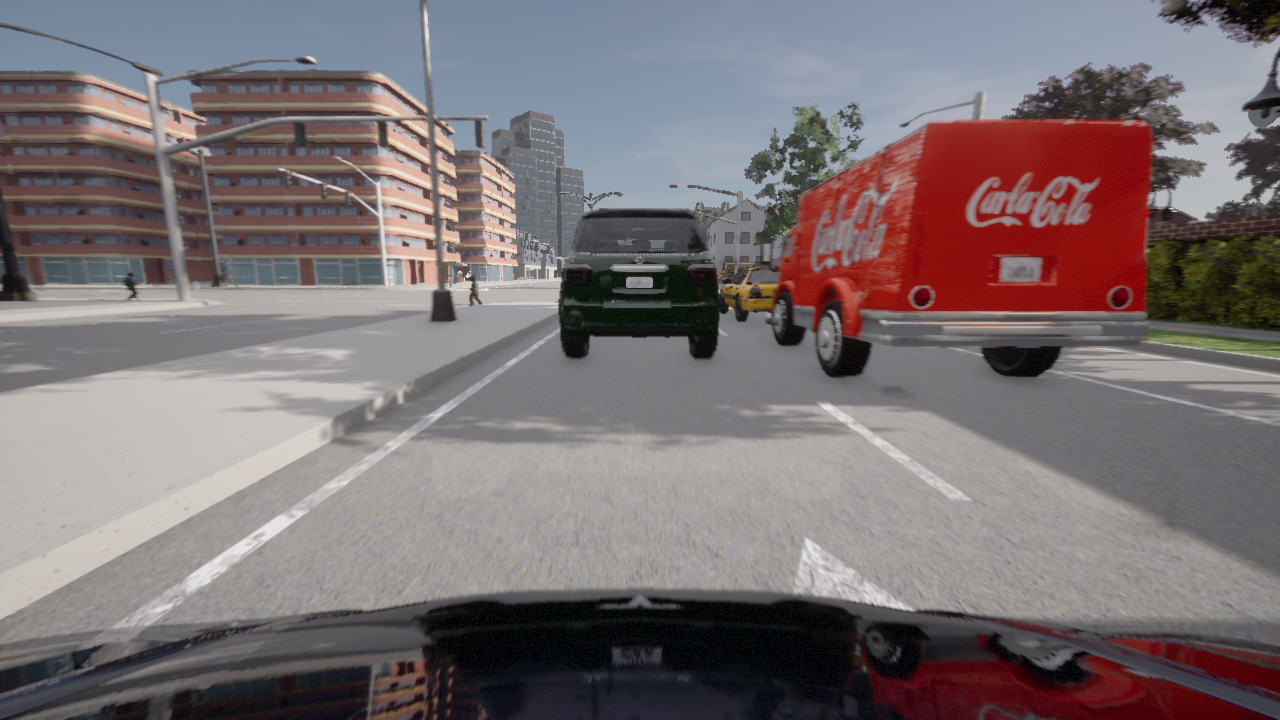cyclist: (0, 588, 1279, 719), (760, 120, 1151, 376), (559, 209, 718, 358), (719, 262, 778, 320)
pedestrian: (122, 272, 139, 300), (469, 277, 482, 304), (230, 263, 237, 287), (447, 275, 452, 286)
